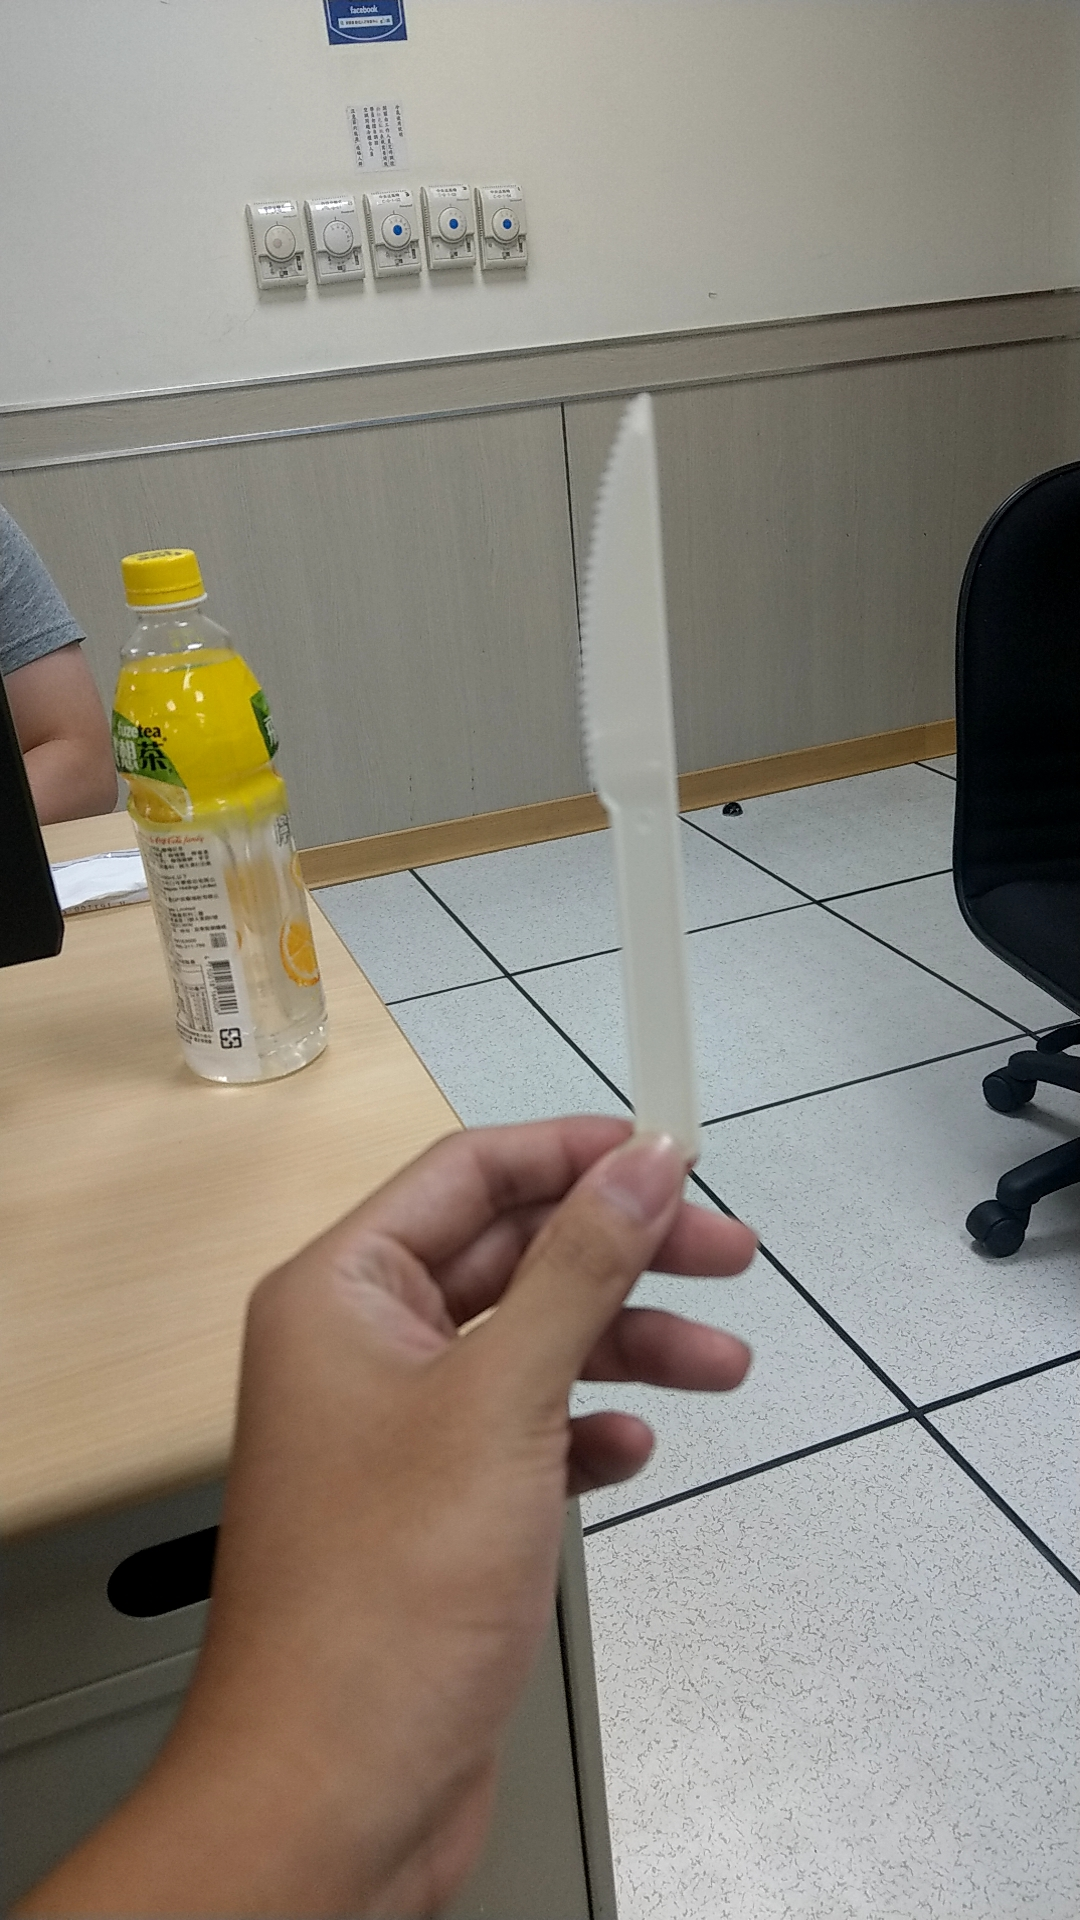knife: (535, 364, 761, 1147)
